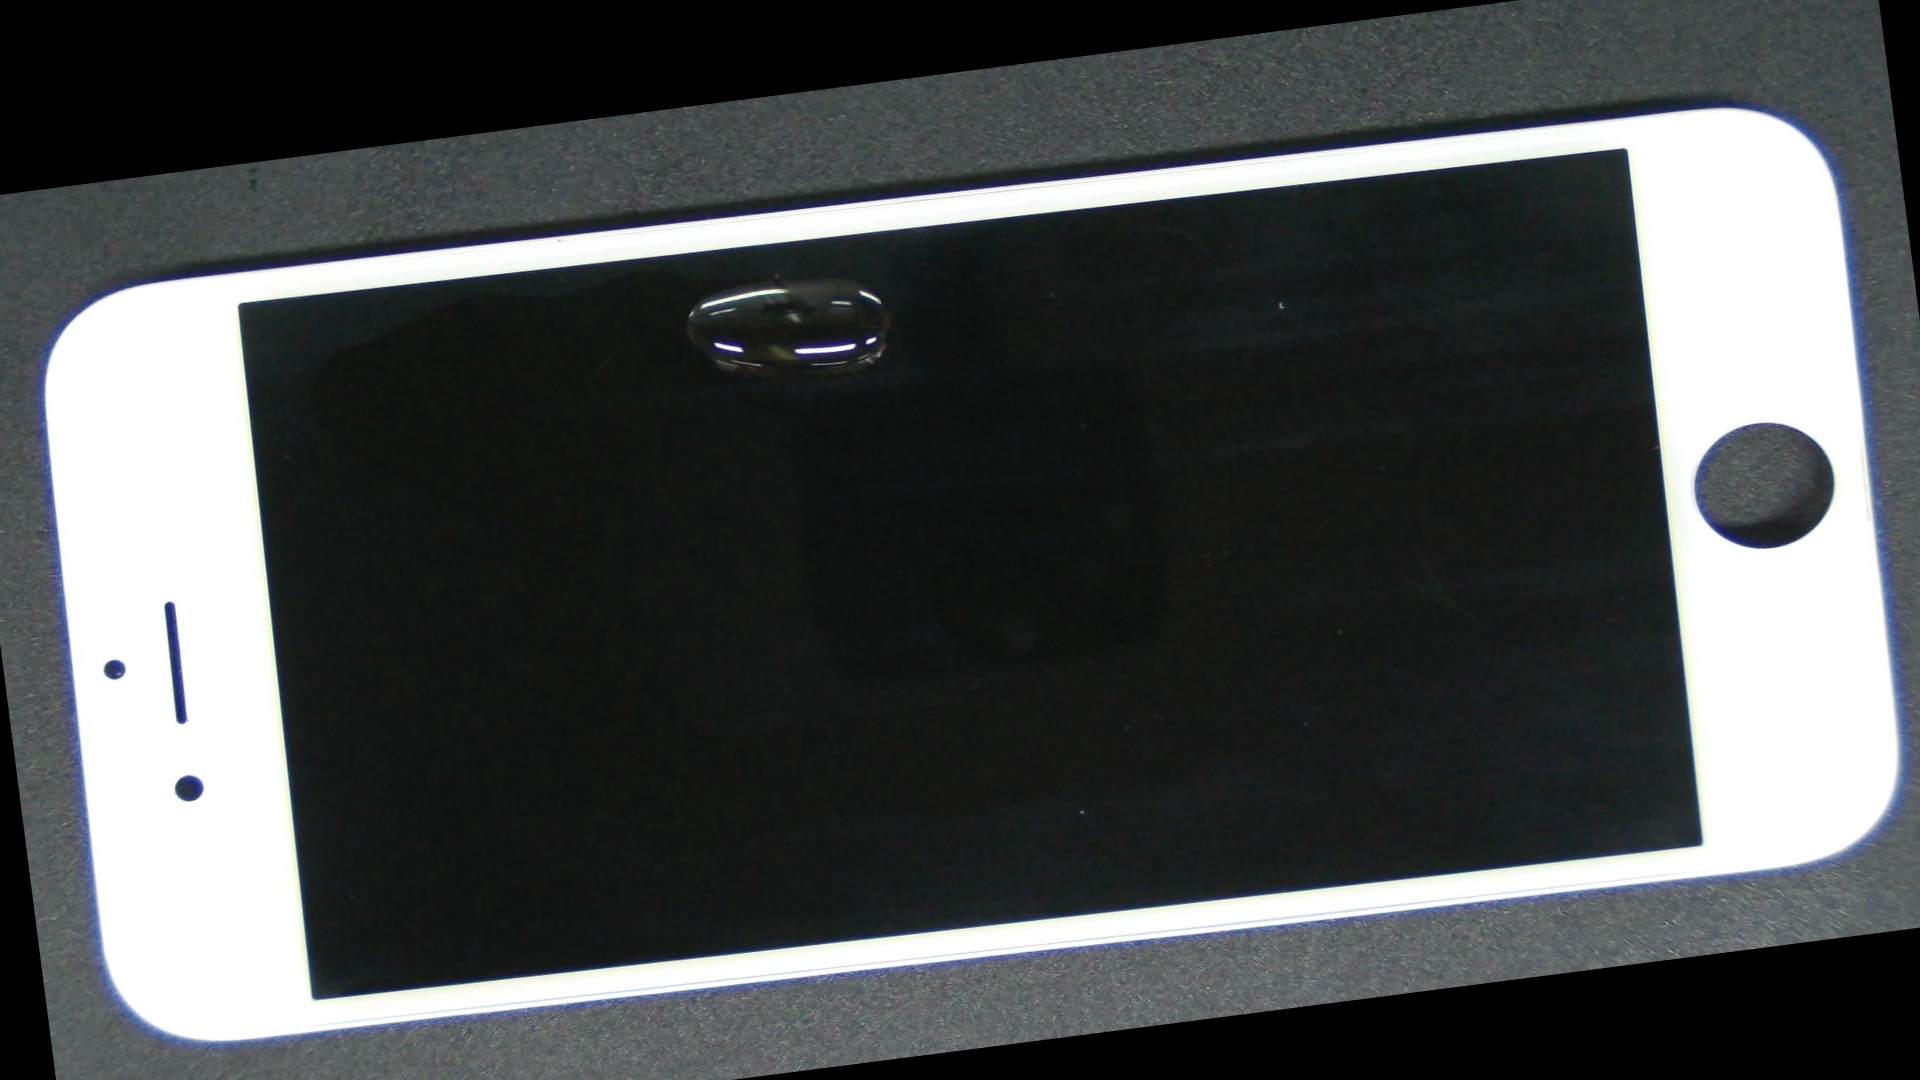oil: (359, 136, 1188, 419)
